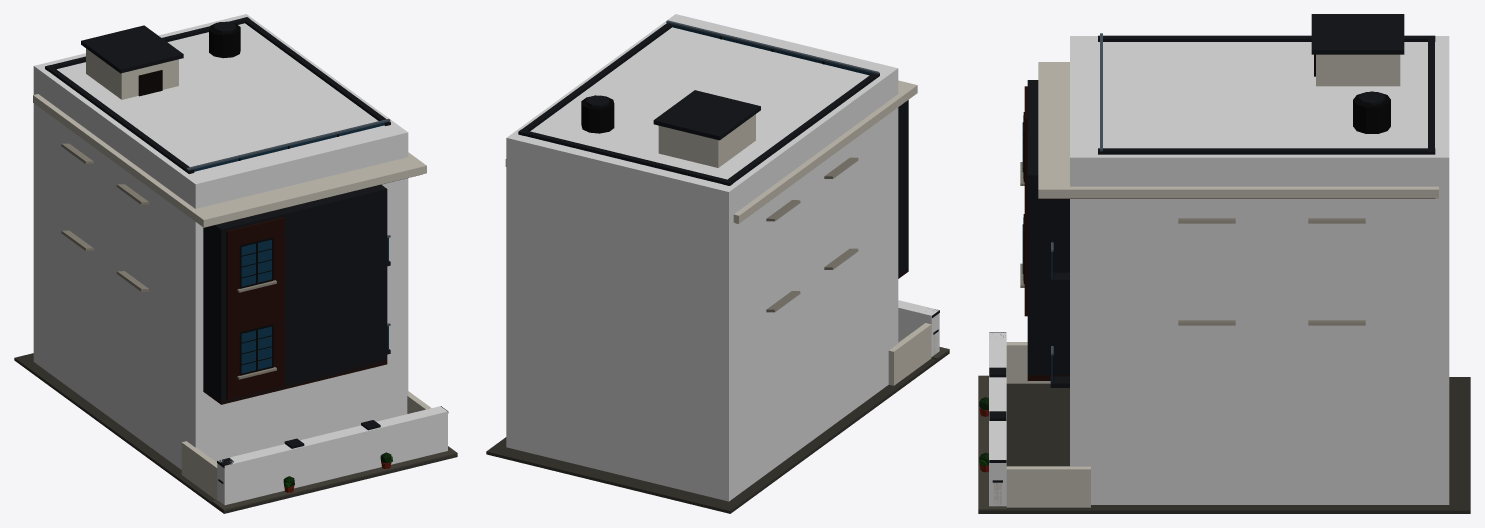
Rendered from B10_modern_townhouse.glb.
3 views of the same model, side by side, from view 1: azimuth 30°, elevation 25°; view 2: azimuth 150°, elevation 25°; view 3: azimuth 270°, elevation 25° (orthographic). The views are drawn at different scales.
Visible parts, largest first — view 1: COL_Main, LOD0, COL_Compound; view 2: COL_Main, LOD0, COL_Compound; view 3: COL_Main, LOD0, COL_Compound.
Boxes of the visible parts, x1,y1,x2,y2 form: COL_Main: (33,14,408,469); LOD0: (14,17,457,513); COL_Compound: (217,406,447,505); COL_Main: (506,14,898,501); LOD0: (486,20,949,513); COL_Compound: (898,300,939,356); COL_Main: (1070,36,1449,504); LOD0: (978,14,1470,513); COL_Compound: (989,332,1006,506).
Size of what is drawn, in the model's own units: 9 by 12.19 by 14.
